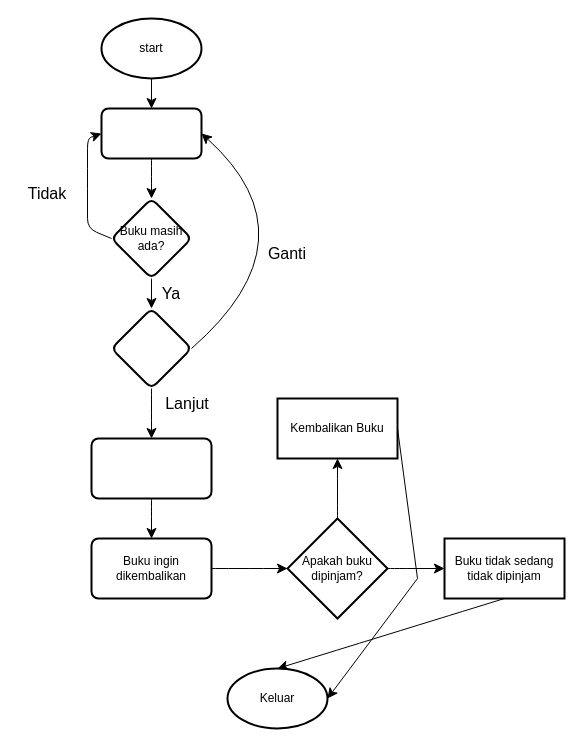
This 582x746 diagram has some shape labels left out. The shapes that lost their labels are listed below. From the top down, each one's centre as x and y in pixels, then its label:
pixel 151 133: Pilih buku yang mau dipinjam
pixel 151 348: Yakin meminjam buku ini?
pixel 151 468: Buku berhasil dipinjam tenggat pengembalian 2 minggu
